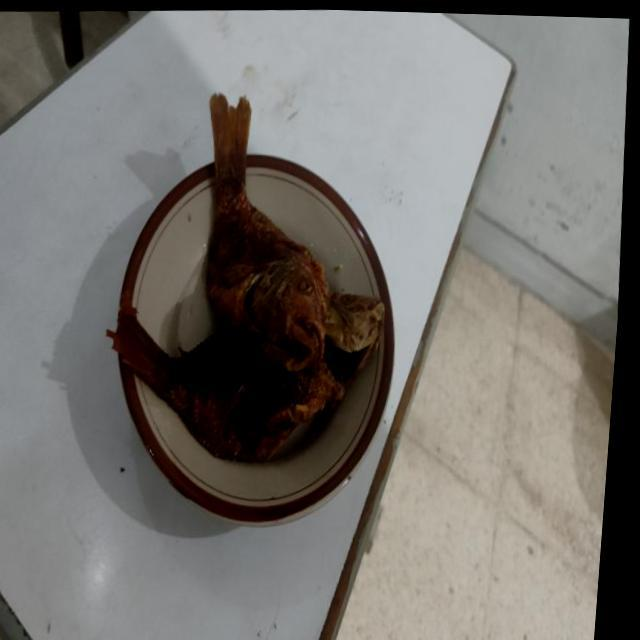ikan_mujair: (106, 293, 384, 462), (206, 94, 329, 372)
